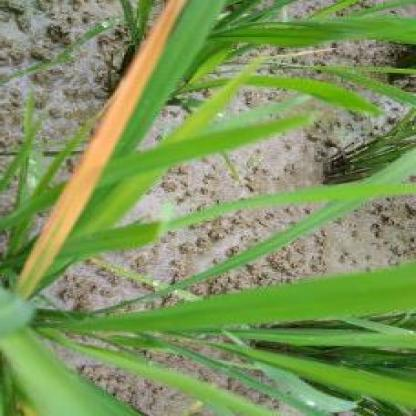Tungro: (16, 1, 190, 303)
